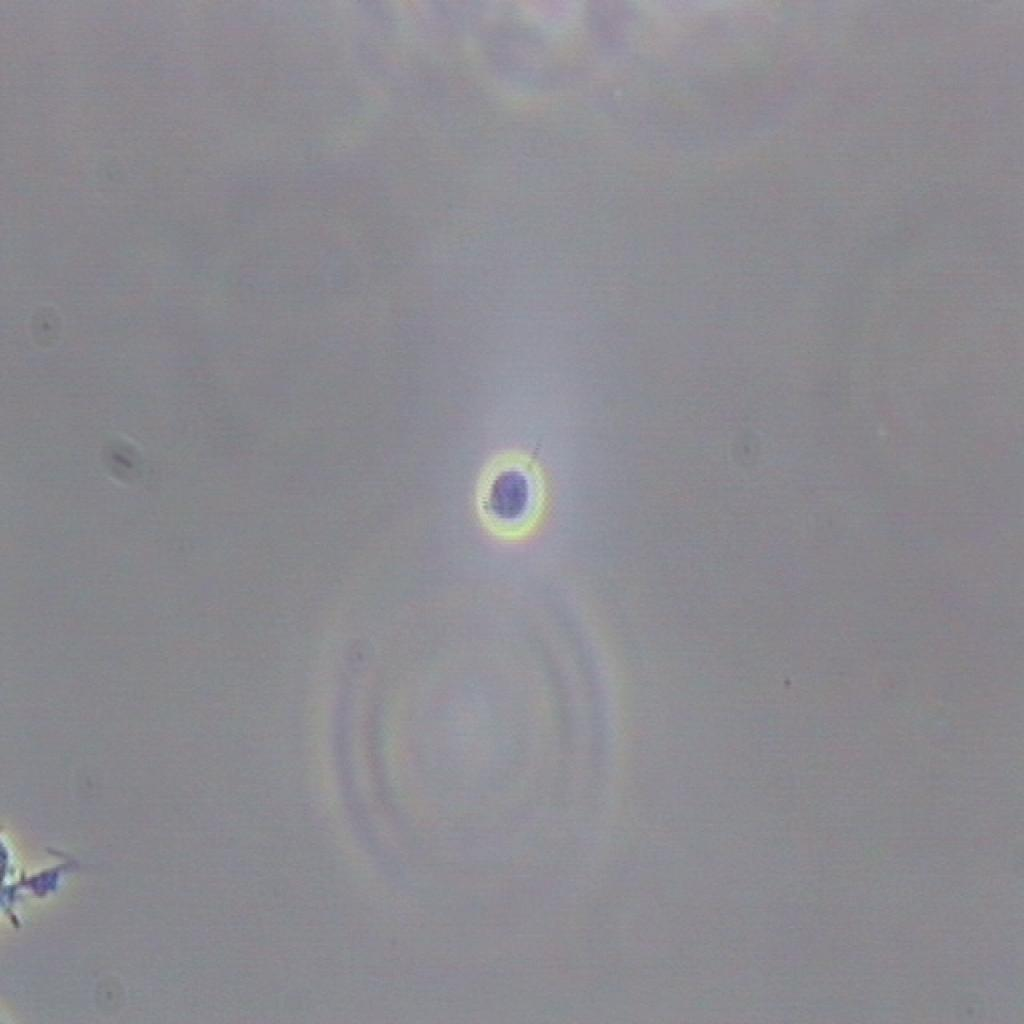Flagellates: (479, 429, 564, 550)
